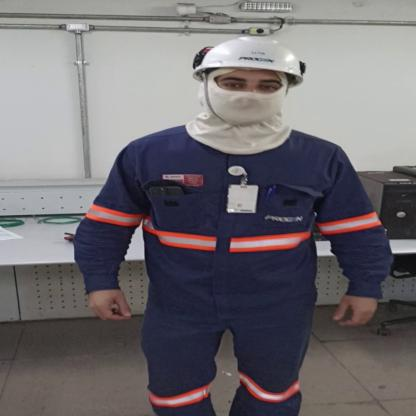Balaclava: (181, 72, 299, 154)
Capacete: (186, 33, 315, 86)
